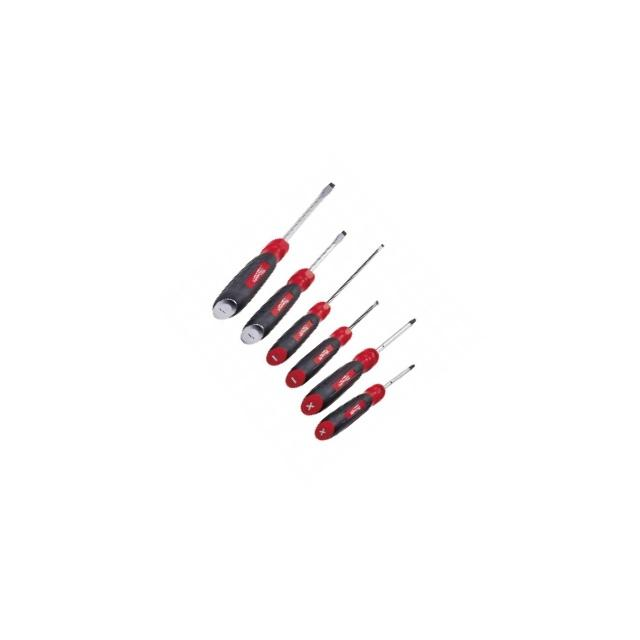screwdriver: (190, 176, 362, 330), (252, 241, 402, 373), (226, 228, 366, 352), (292, 308, 423, 423), (276, 294, 390, 394), (307, 349, 420, 449)
